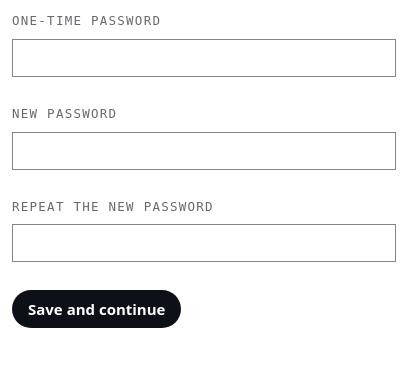
Scenario: ChangePasswordForm, a refused change › says the two new passwords differ, in the interface's own words
Click the button "Save and continue" at {"x": 97, "y": 309}, box [12,290,182,328]
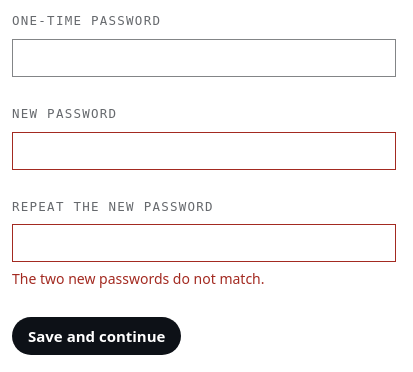
Expected: the message reads "The two new passwords do not match.", [12,269,264,288]
